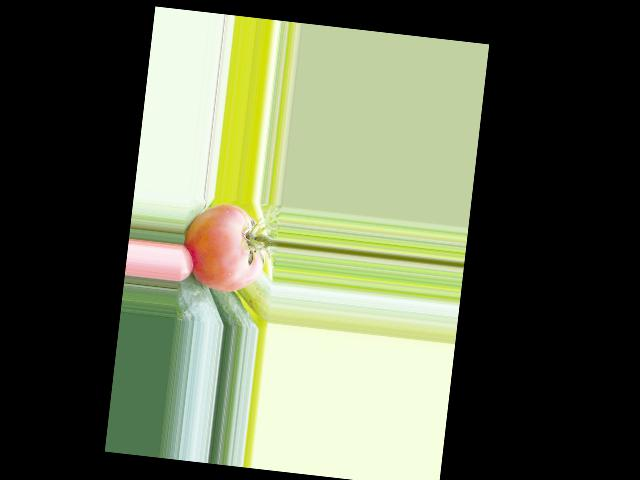tomato: (179, 199, 269, 295)
